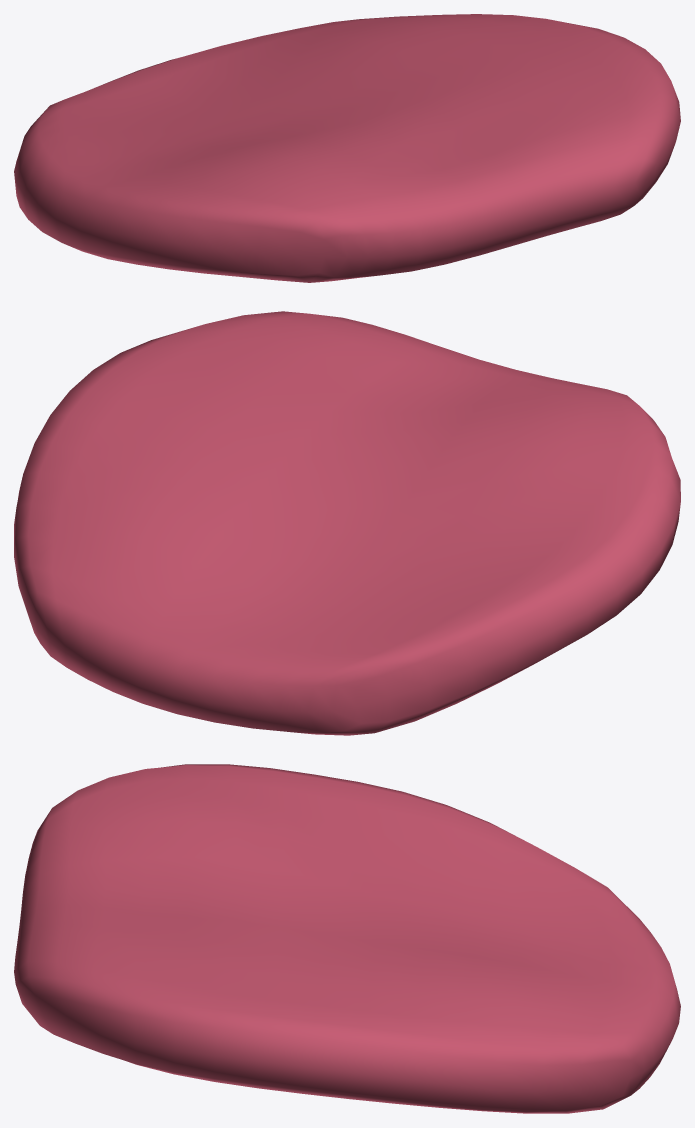
The picture shows the model from 3 angles, top to bottom: view 1: azimuth 30°, elevation 25°; view 2: azimuth 150°, elevation 25°; view 3: azimuth 270°, elevation 25°; orthographic projection. The views are drawn at different scales.
Parts seen in each view (by area): view 1: 左侧髌下深囊; view 2: 左侧髌下深囊; view 3: 左侧髌下深囊.
Boxes of the visible parts, <box> form: 左侧髌下深囊: <box>14,14,680,282</box>; 左侧髌下深囊: <box>14,311,680,735</box>; 左侧髌下深囊: <box>14,764,680,1113</box>.
Bounding box in the file's own units: 0.0255 × 0.00668 × 0.0243.
